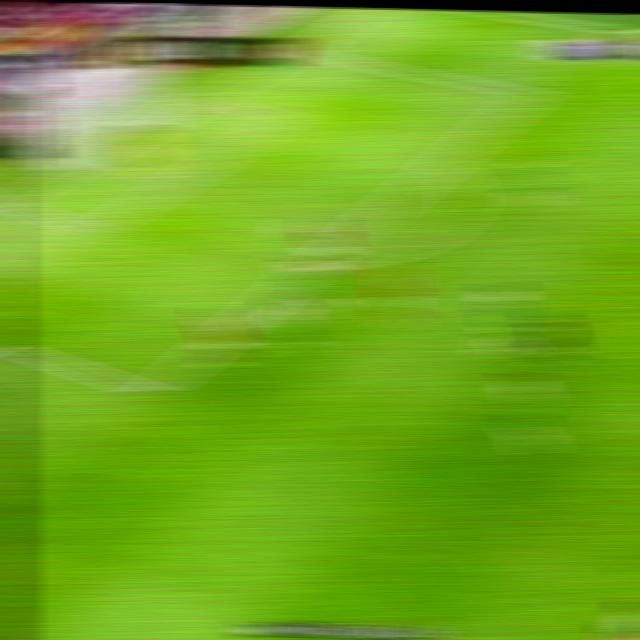bigarea_bottom_inner: (134, 379, 170, 405)
bigarea_top_inner: (517, 87, 547, 102)
bigarea_top_outter: (285, 45, 315, 58)
bottom_arc_area_intersection: (298, 261, 326, 274)
smallarea_bottom_inner: (79, 217, 115, 240)
smallarea_bottom_outter: (0, 192, 24, 212)
smallarea_top_inner: (270, 110, 300, 124)
smallarea_top_outter: (193, 93, 224, 106)
top_arc_area_intersection: (427, 157, 458, 172)
